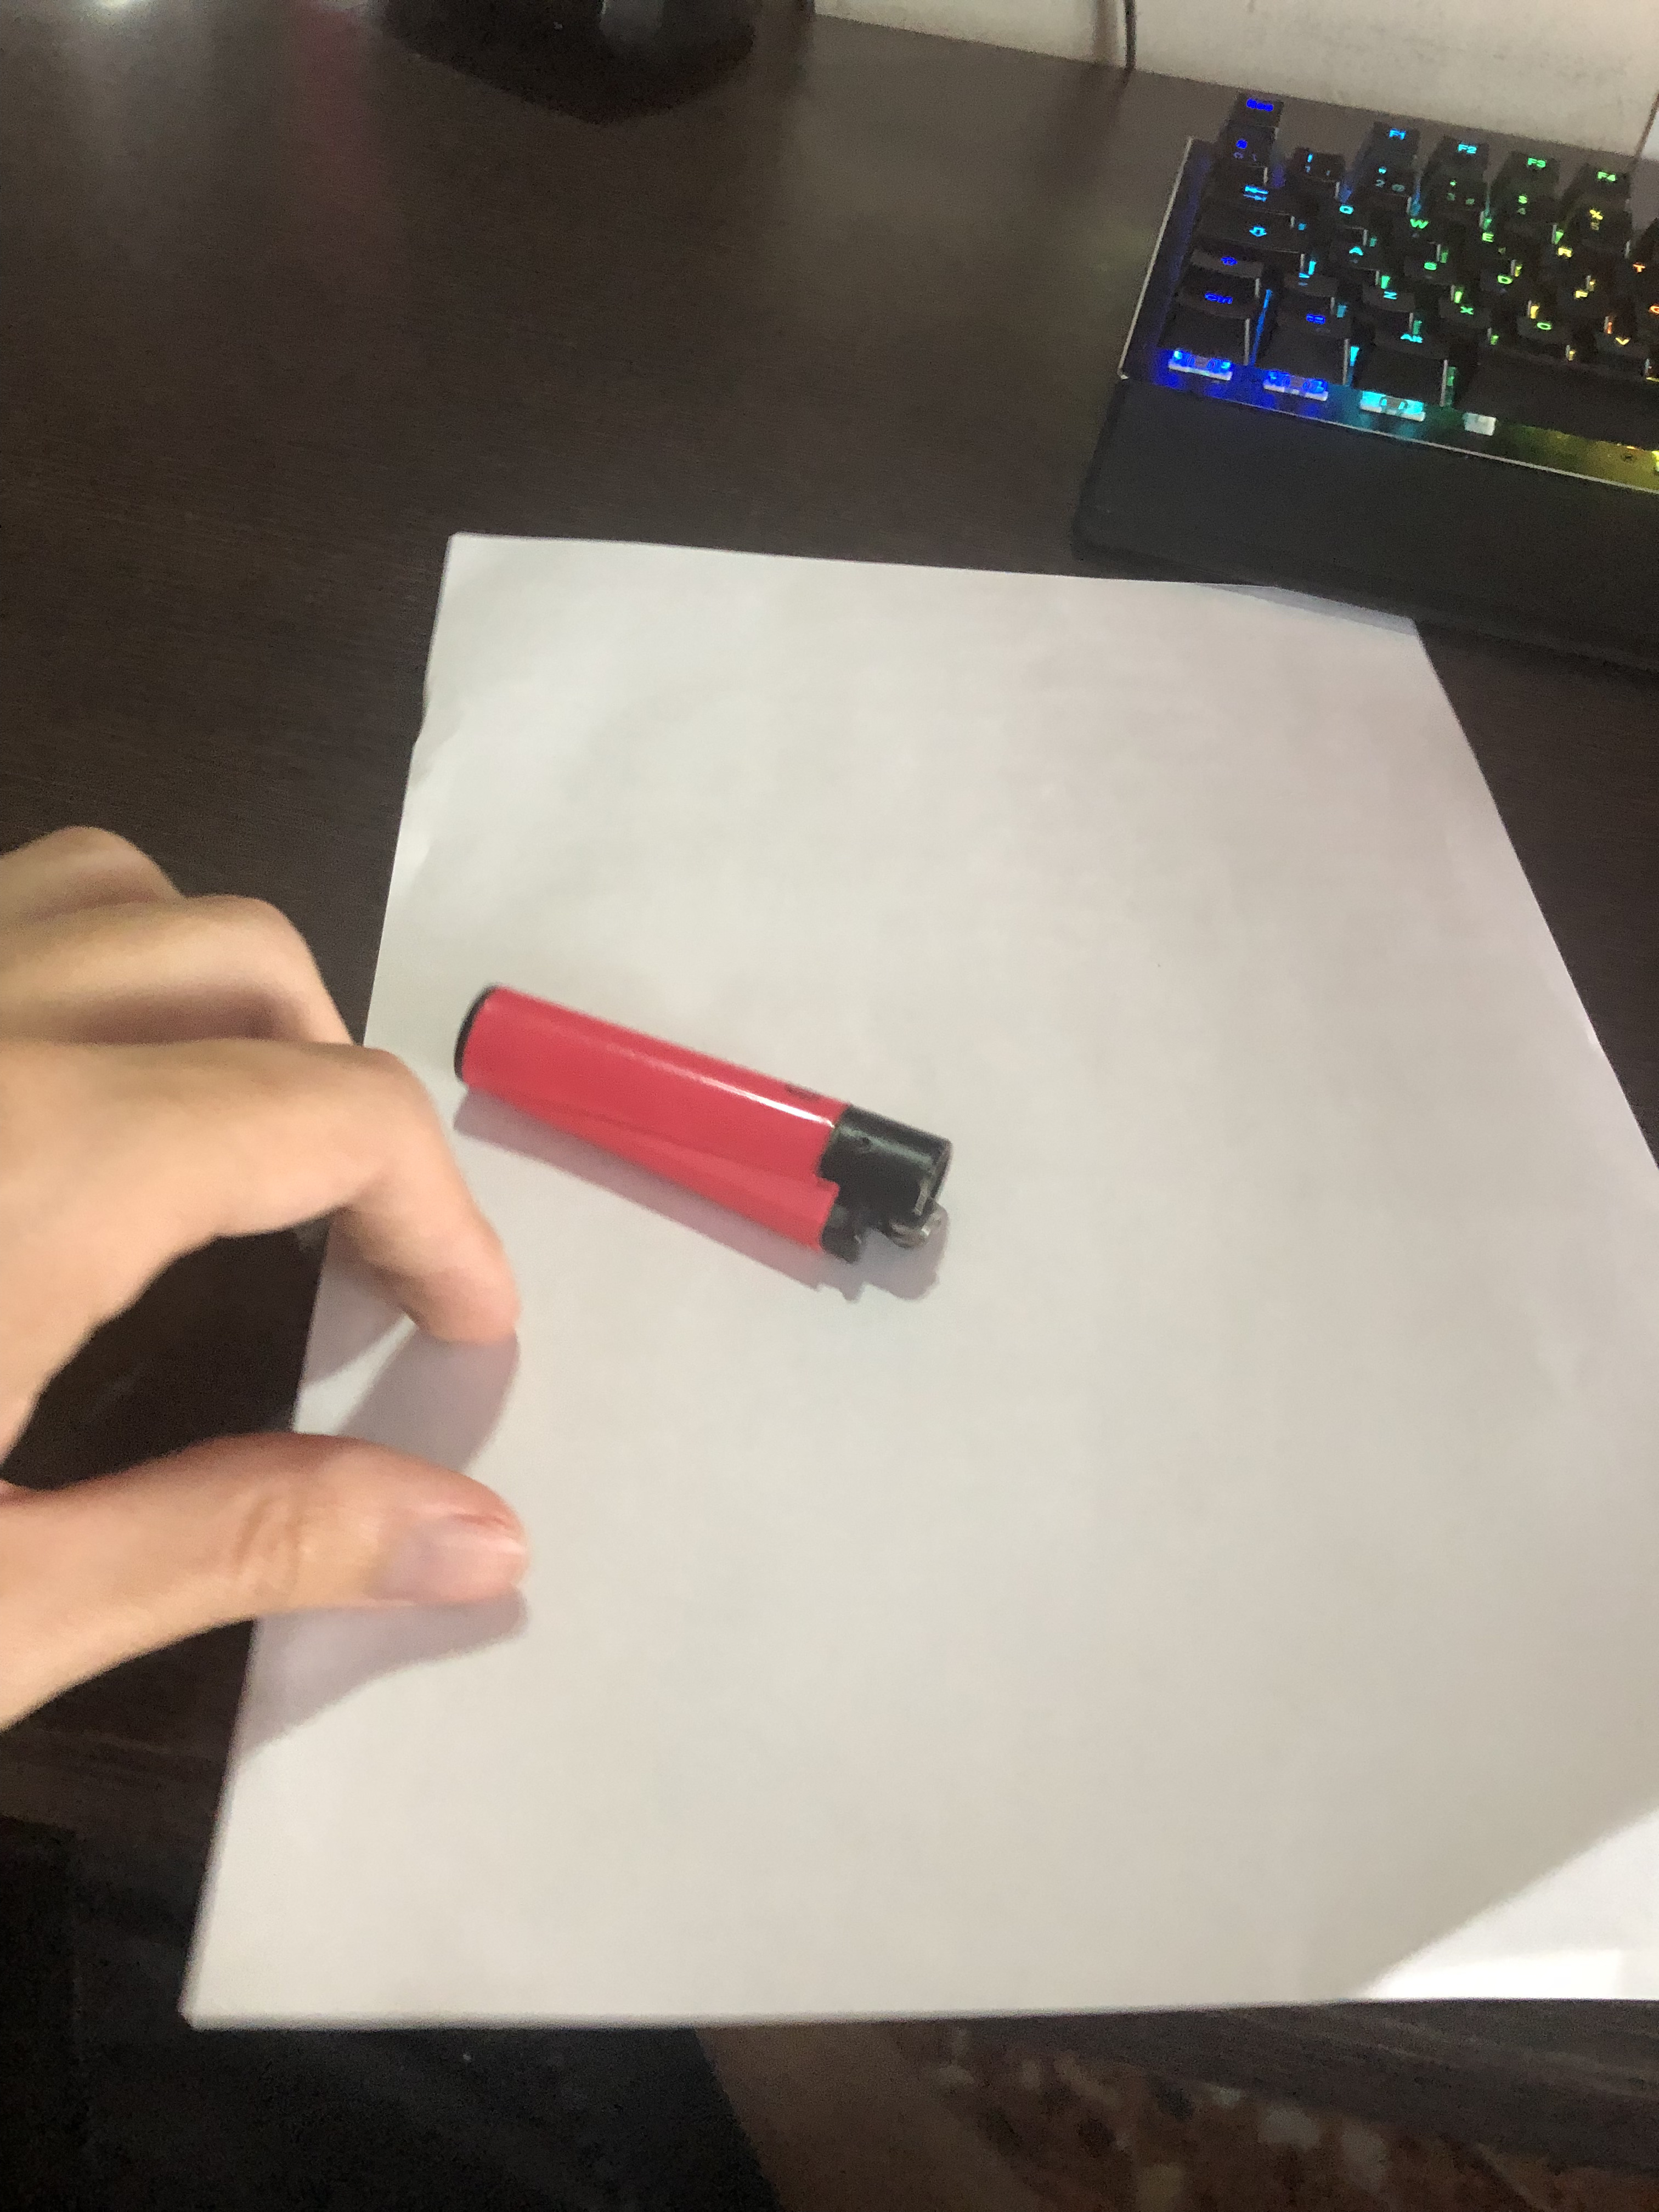Mechero: (376, 970, 1025, 1287)
